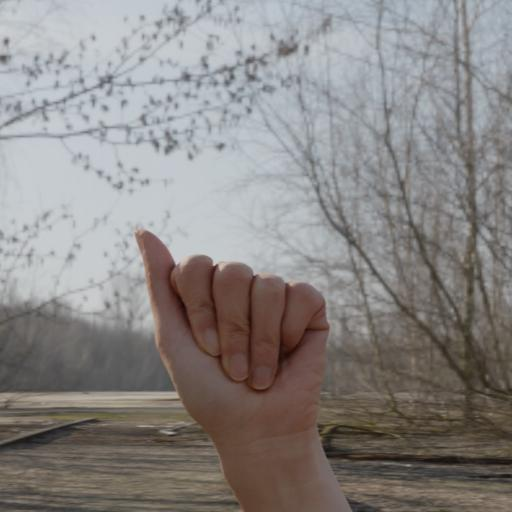A: (104, 178, 397, 480)
